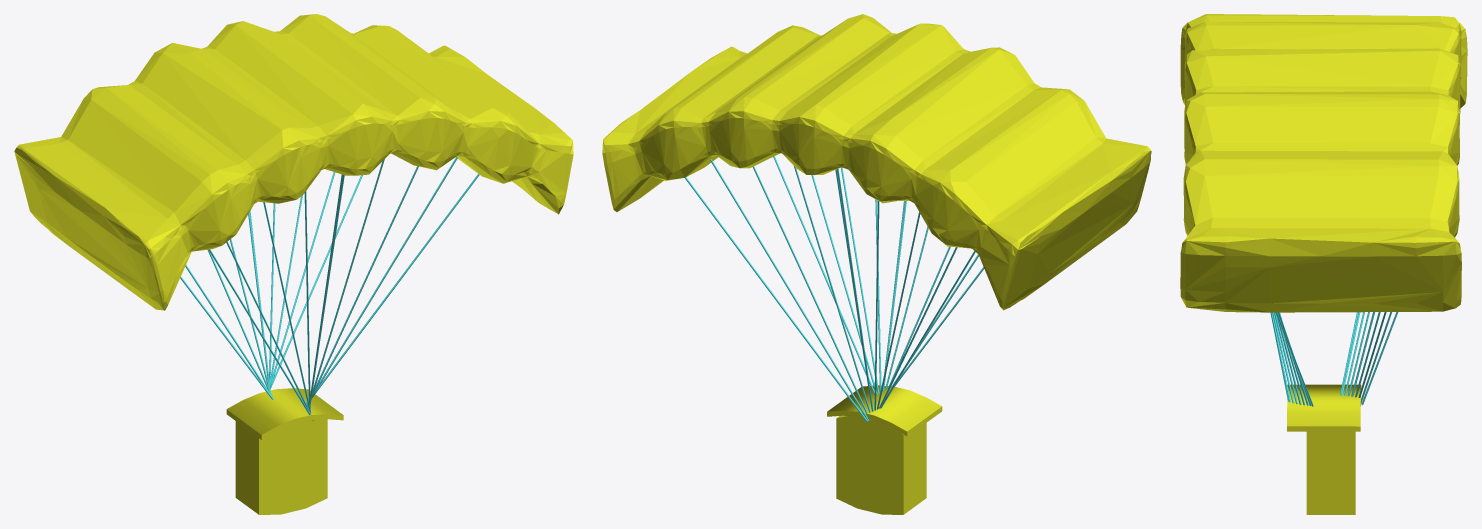
The model's file is parachute.fbx.
3 views of the same model, side by side, from view 1: azimuth 30°, elevation 25°; view 2: azimuth 150°, elevation 25°; view 3: azimuth 270°, elevation 25° (orthographic). The views are drawn at different scales.
Visible parts, largest first — view 1: Parachute; view 2: Parachute; view 3: Parachute.
Boxes of the visible parts, box(x1,y1,x2,y2) form: Parachute: box(14, 14, 573, 514); Parachute: box(602, 14, 1151, 514); Parachute: box(1180, 14, 1467, 514).
Bounding box in the file's own units: 249 × 242 × 137.
